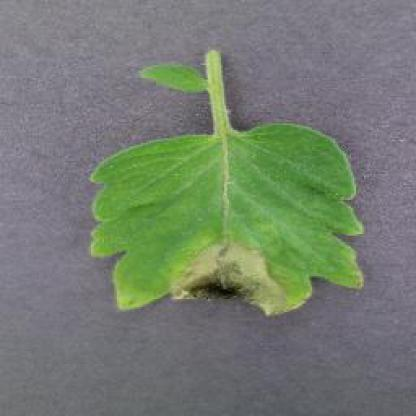bad leaf: (179, 234, 272, 308)
